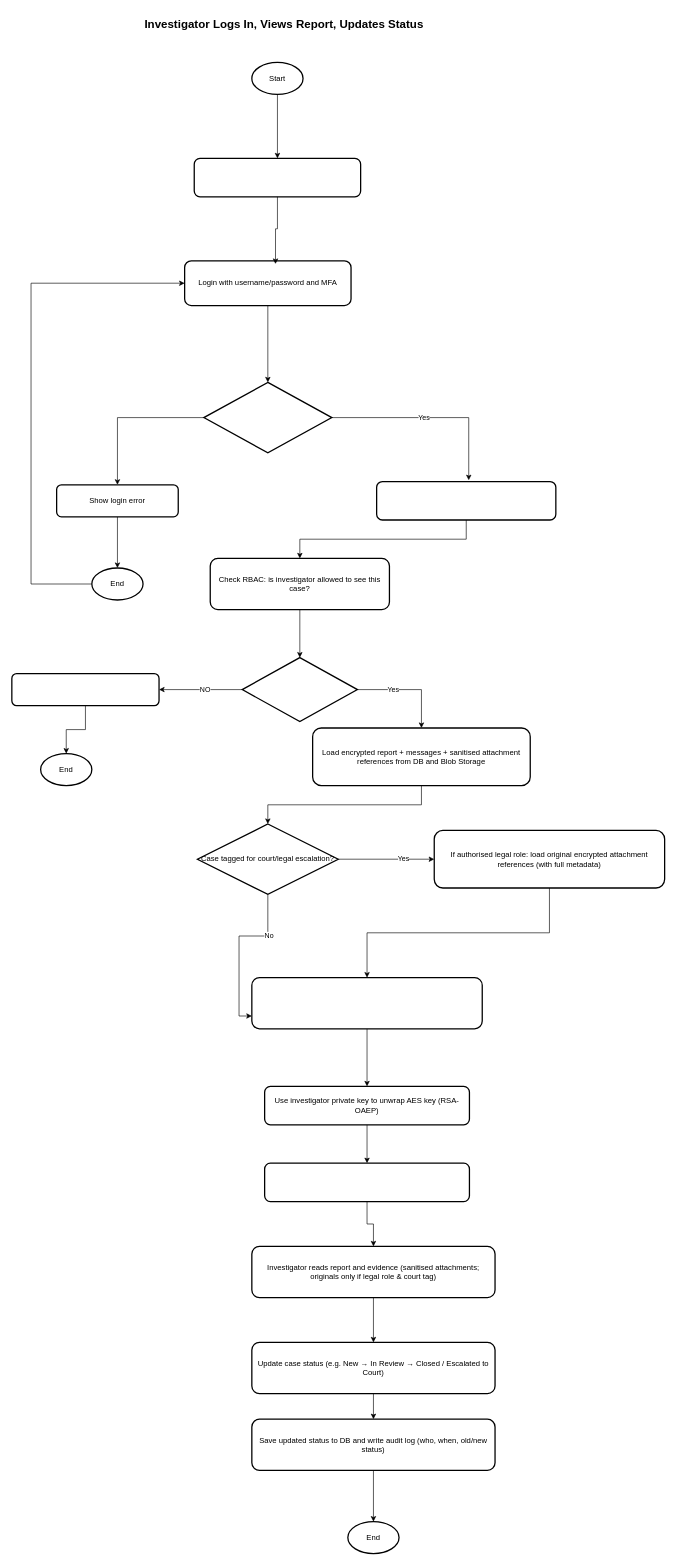
Image size: 676x1565. Some labels were removed from this diagram. The shapes that lost their labels are listed below. From the top down, each one's centre as x and y in pixels, then its label:
point (277, 177): Investigator opens Admin/Case portal
point (267, 417): Authentication & MFA successful?
point (466, 500): Select case from case list using ReportId
point (85, 689): Return 403 / access denied
point (299, 689): Authorised?
point (367, 1003): Load investigator private key (encrypted at rest, decrypted locally after login)
point (367, 1182): Decrypt report text and sanitised attachments with AES-GCM
